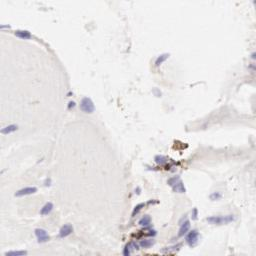nucleus: (187, 229, 203, 248), (202, 217, 237, 225), (160, 242, 184, 253), (80, 97, 95, 114), (13, 186, 38, 196), (35, 228, 51, 243), (155, 52, 171, 67), (58, 224, 73, 239), (40, 201, 54, 216), (1, 124, 18, 136), (137, 214, 154, 226), (131, 201, 144, 215), (179, 222, 191, 237), (14, 30, 32, 39), (141, 239, 157, 249), (174, 183, 188, 194), (166, 176, 182, 184), (5, 250, 25, 256), (209, 192, 223, 200), (156, 155, 169, 162), (123, 241, 129, 256), (153, 87, 162, 97), (192, 207, 198, 221), (43, 177, 52, 186), (132, 240, 138, 253), (68, 100, 76, 108), (1, 24, 11, 29), (147, 200, 157, 205), (249, 65, 256, 72), (135, 187, 141, 195), (144, 167, 155, 171), (150, 228, 156, 235), (250, 52, 256, 59), (149, 230, 156, 236), (67, 90, 73, 96), (172, 168, 178, 172)
positive_cell: (156, 156, 176, 168), (134, 228, 156, 237), (145, 164, 166, 173), (169, 162, 180, 175), (149, 198, 160, 205)
